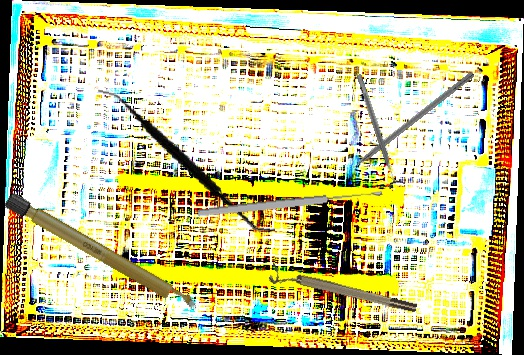Fixation Ring: (267, 262, 419, 322), (349, 71, 407, 190)
Hook Surgical: (339, 69, 475, 179)
Scalpel Handle: (2, 191, 202, 317)
Spatula Surgical: (78, 85, 295, 235)
Surgical Spoon: (196, 188, 384, 219)
